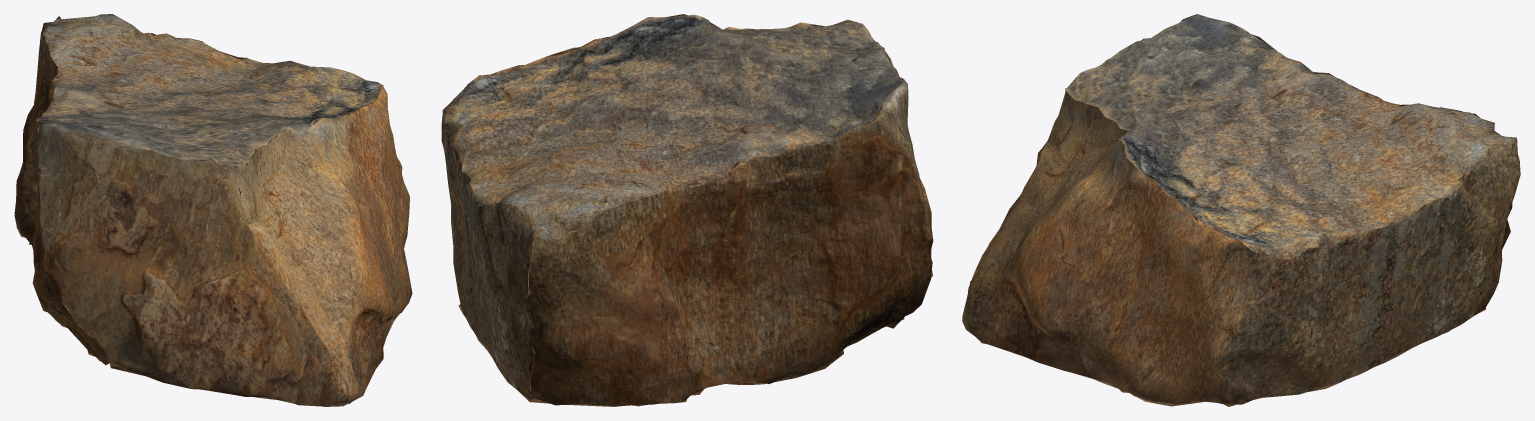
Rendered from ph-namaqualand_boulder_03.glb.
3 views of the same model, side by side, from view 1: azimuth 30°, elevation 25°; view 2: azimuth 150°, elevation 25°; view 3: azimuth 270°, elevation 25° (orthographic). The views are drawn at different scales.
Visible parts, largest first — view 1: namaqualand_boulder_03; view 2: namaqualand_boulder_03; view 3: namaqualand_boulder_03.
Part boxes in pixels (<box>): namaqualand_boulder_03: <box>14,14,412,406</box>; namaqualand_boulder_03: <box>441,14,933,406</box>; namaqualand_boulder_03: <box>962,14,1520,406</box>.
Size of the model in its own units: 2.4 by 1.48 by 3.08.
Materials: 1 (1 with a texture image).
